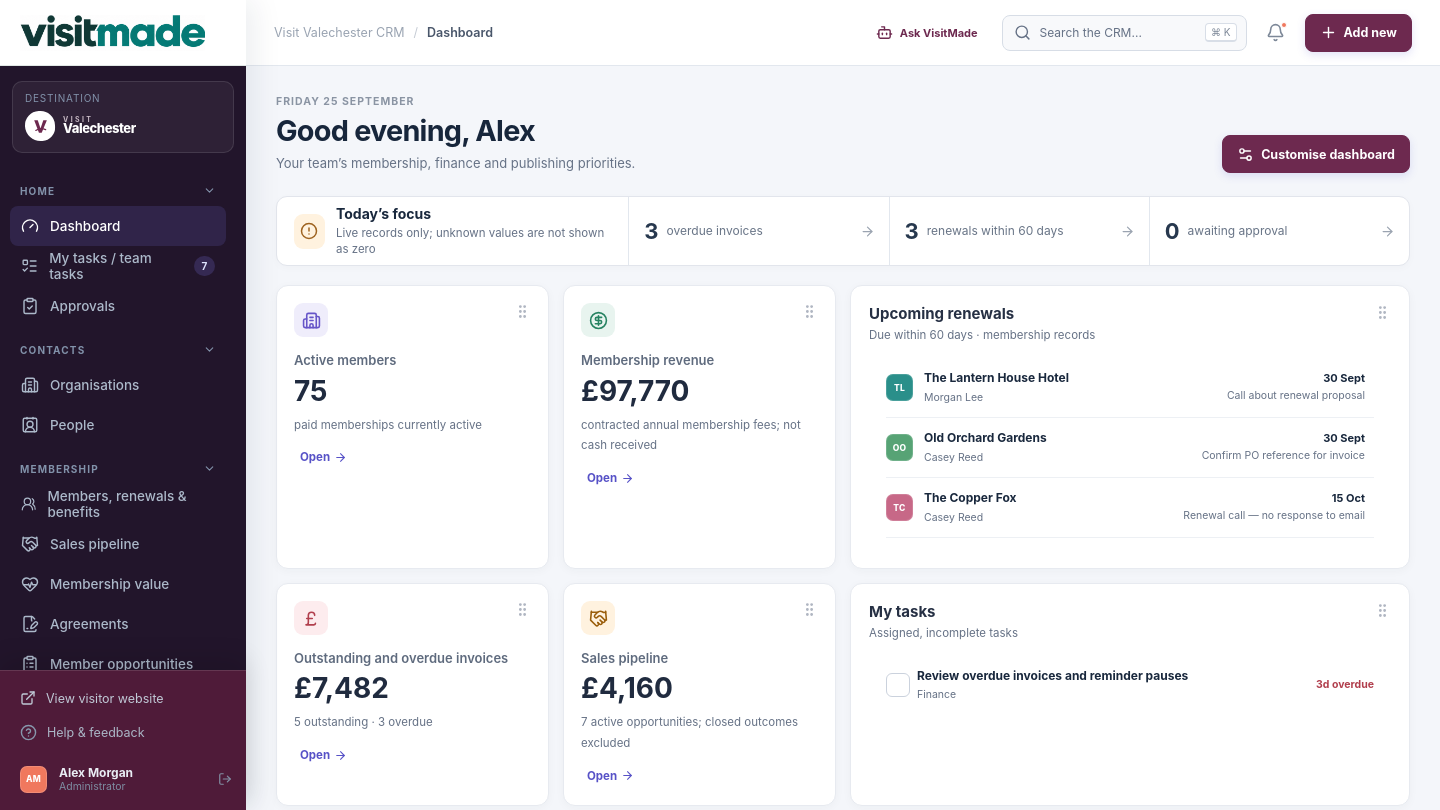
it: Visit CRM › navigates to the organisations workspace
Click the button "Organisations" at (118, 385), box [10, 365, 226, 405]
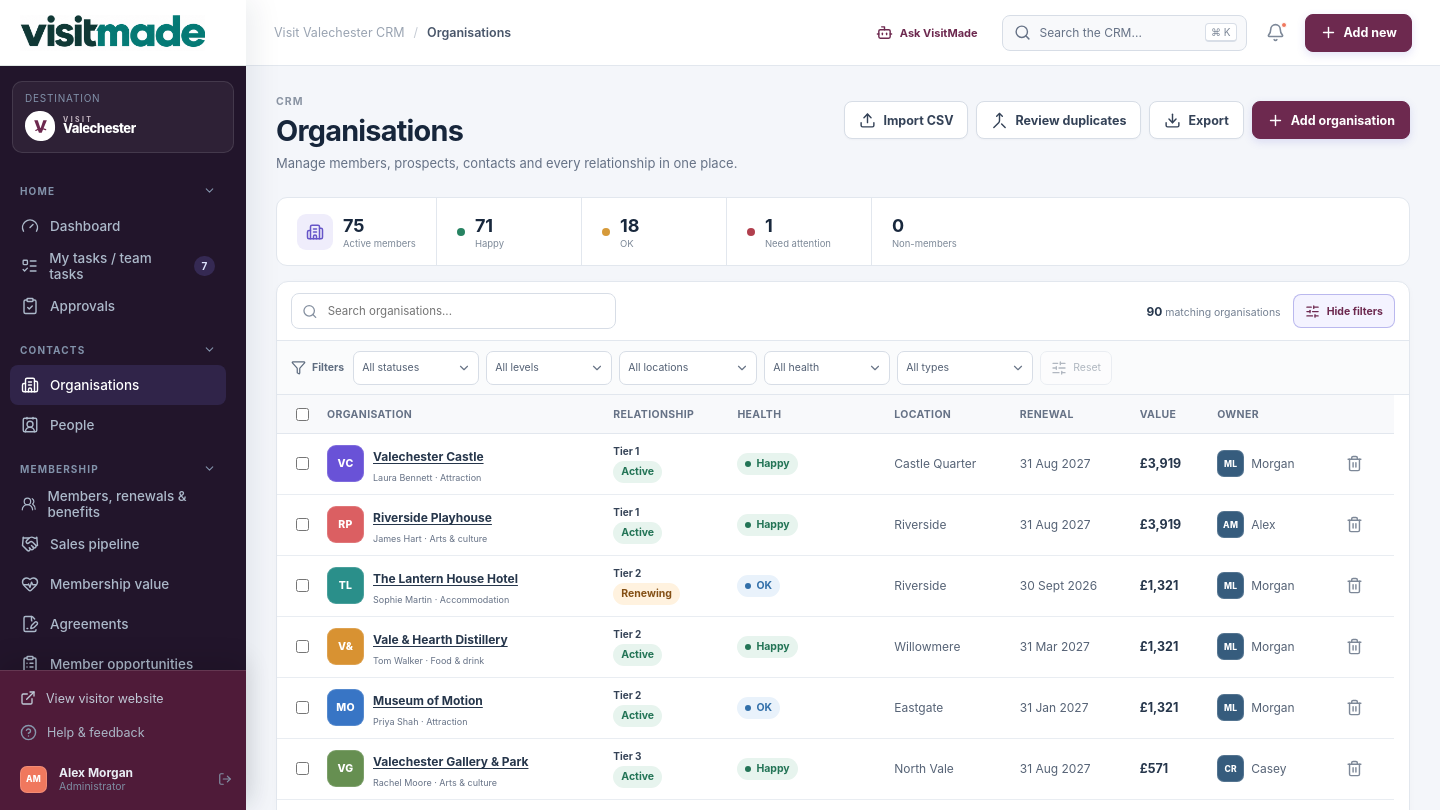
Result: the heading "Organisations" is shown at [276, 113, 463, 148]
Result: the button "Valechester Castle" is shown at [373, 445, 484, 469]
